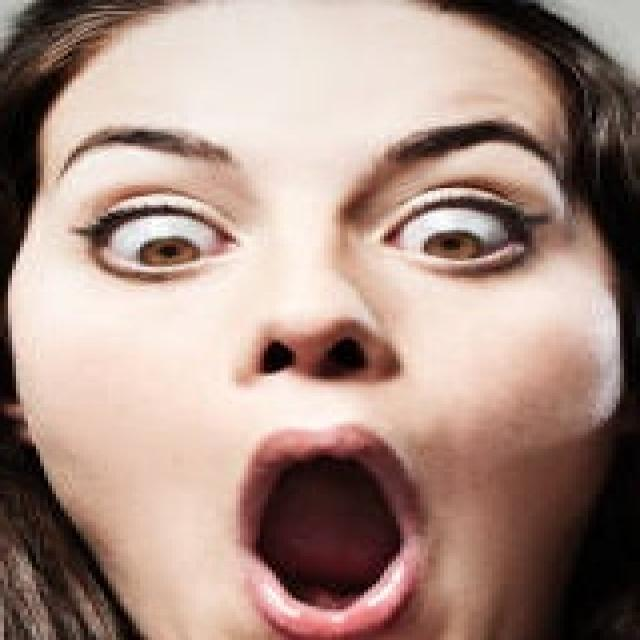Anxiety: (7, 0, 626, 637)
